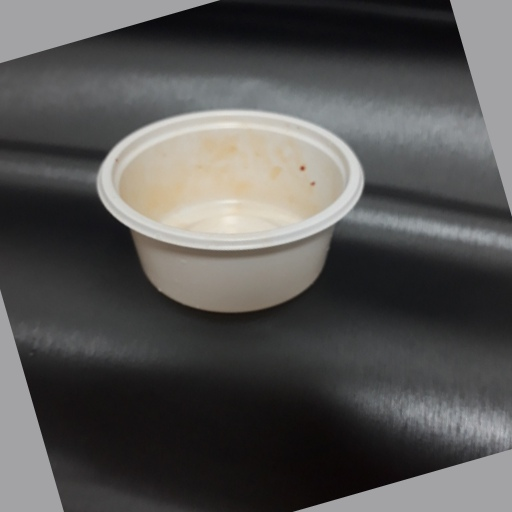Plastic_5: (94, 108, 367, 315)
